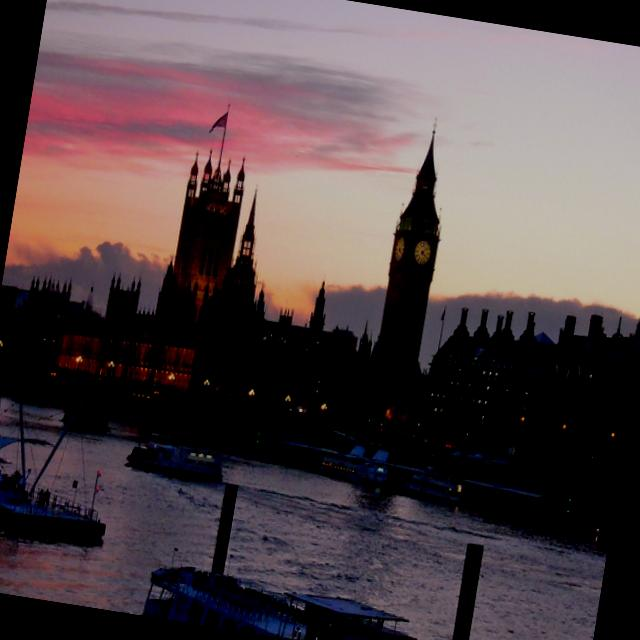Vehicle: (488, 456, 511, 468), (470, 452, 485, 464)
